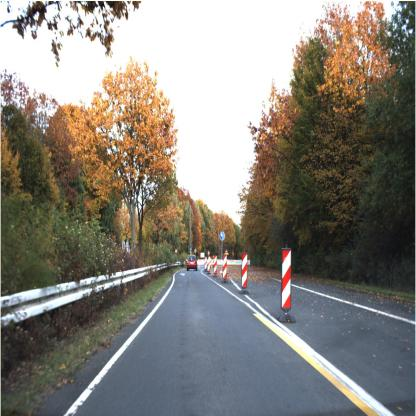go left or straight: (219, 232, 225, 240)
